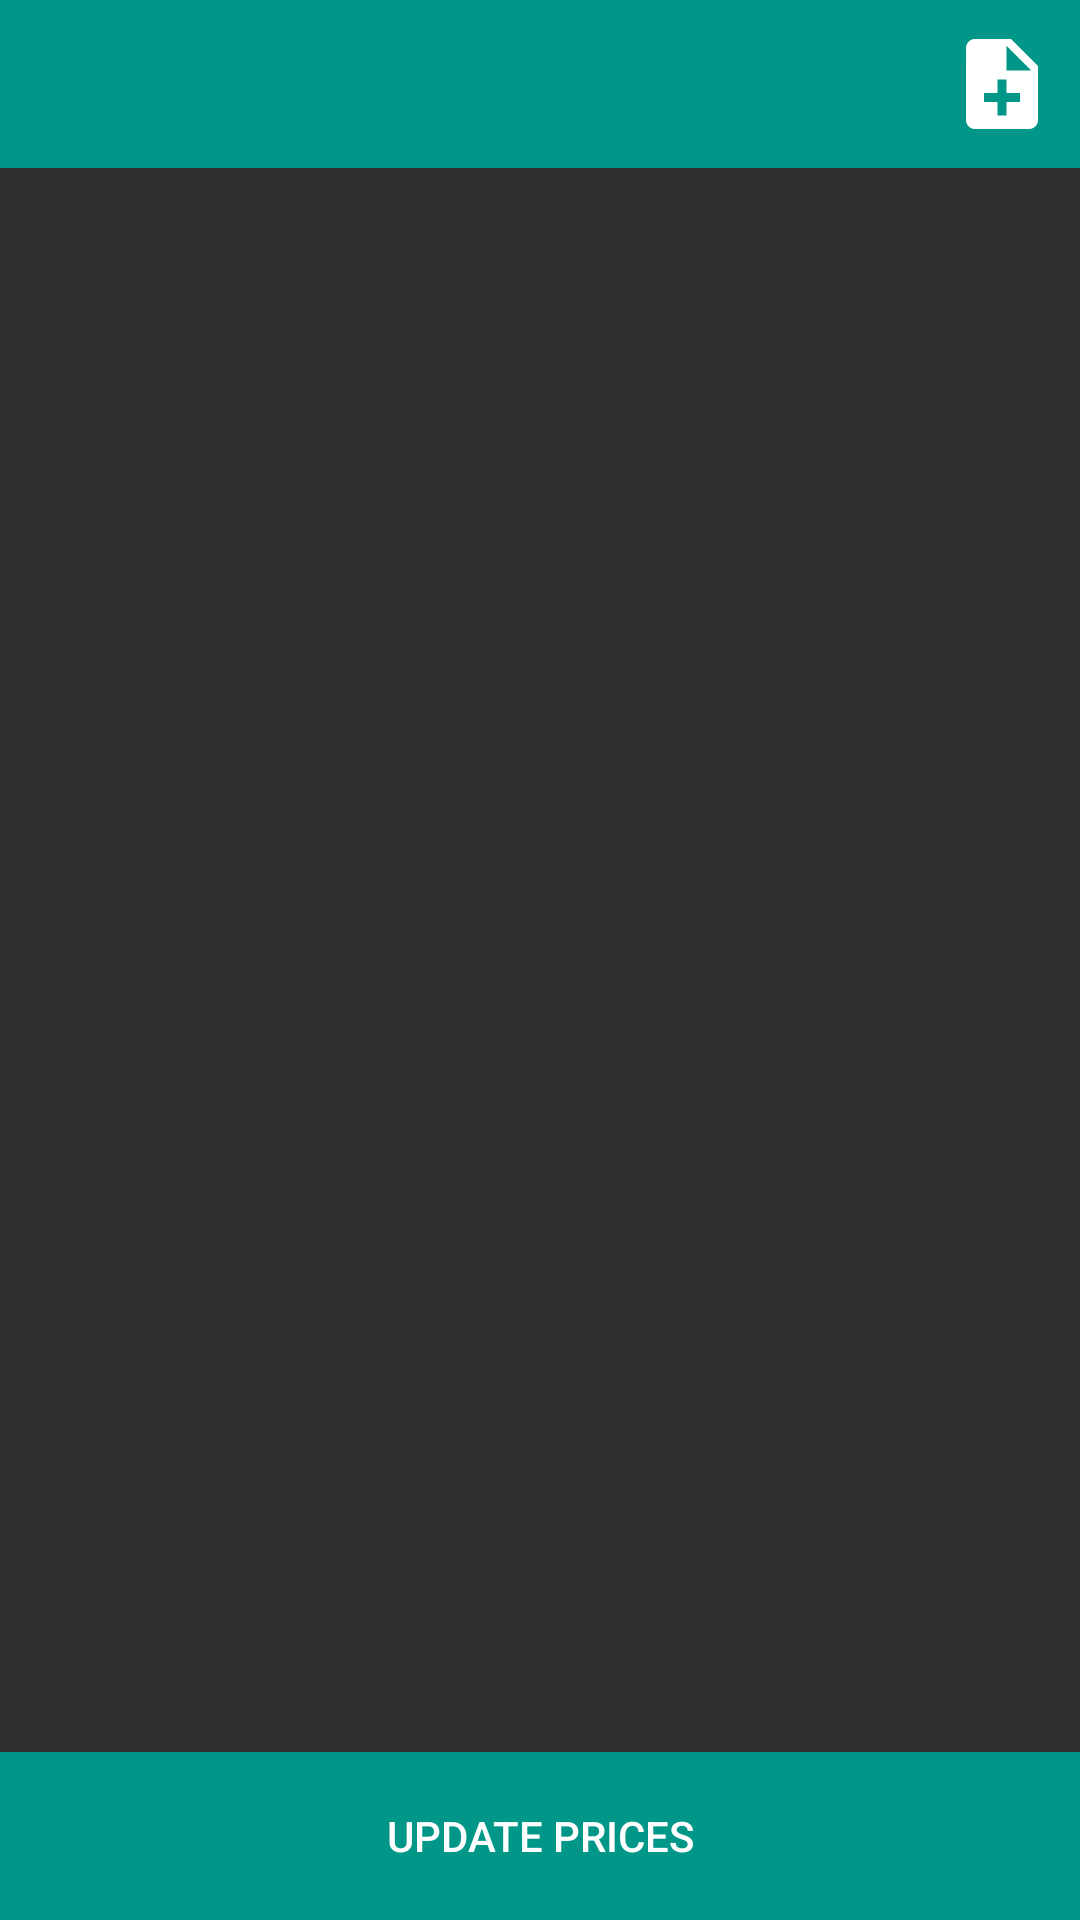

Where to tap for icons on this 1080 x 1920 app screen, as (x,y):
note add: (1002,84)
